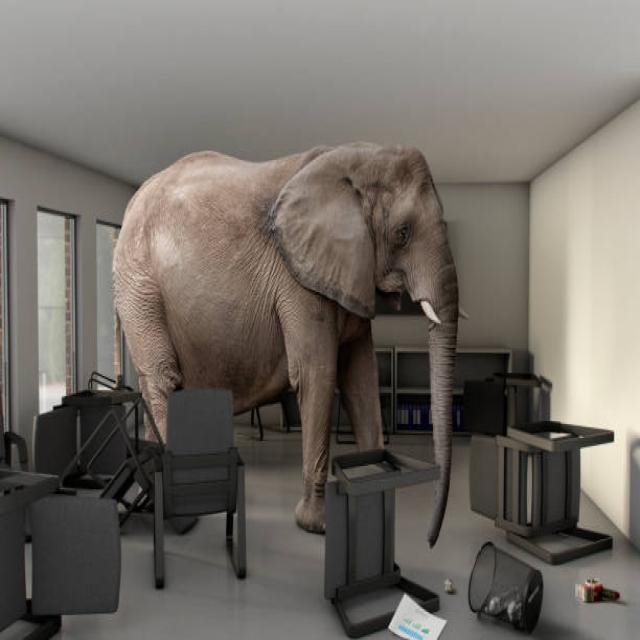Elephant: (118, 137, 461, 531)
